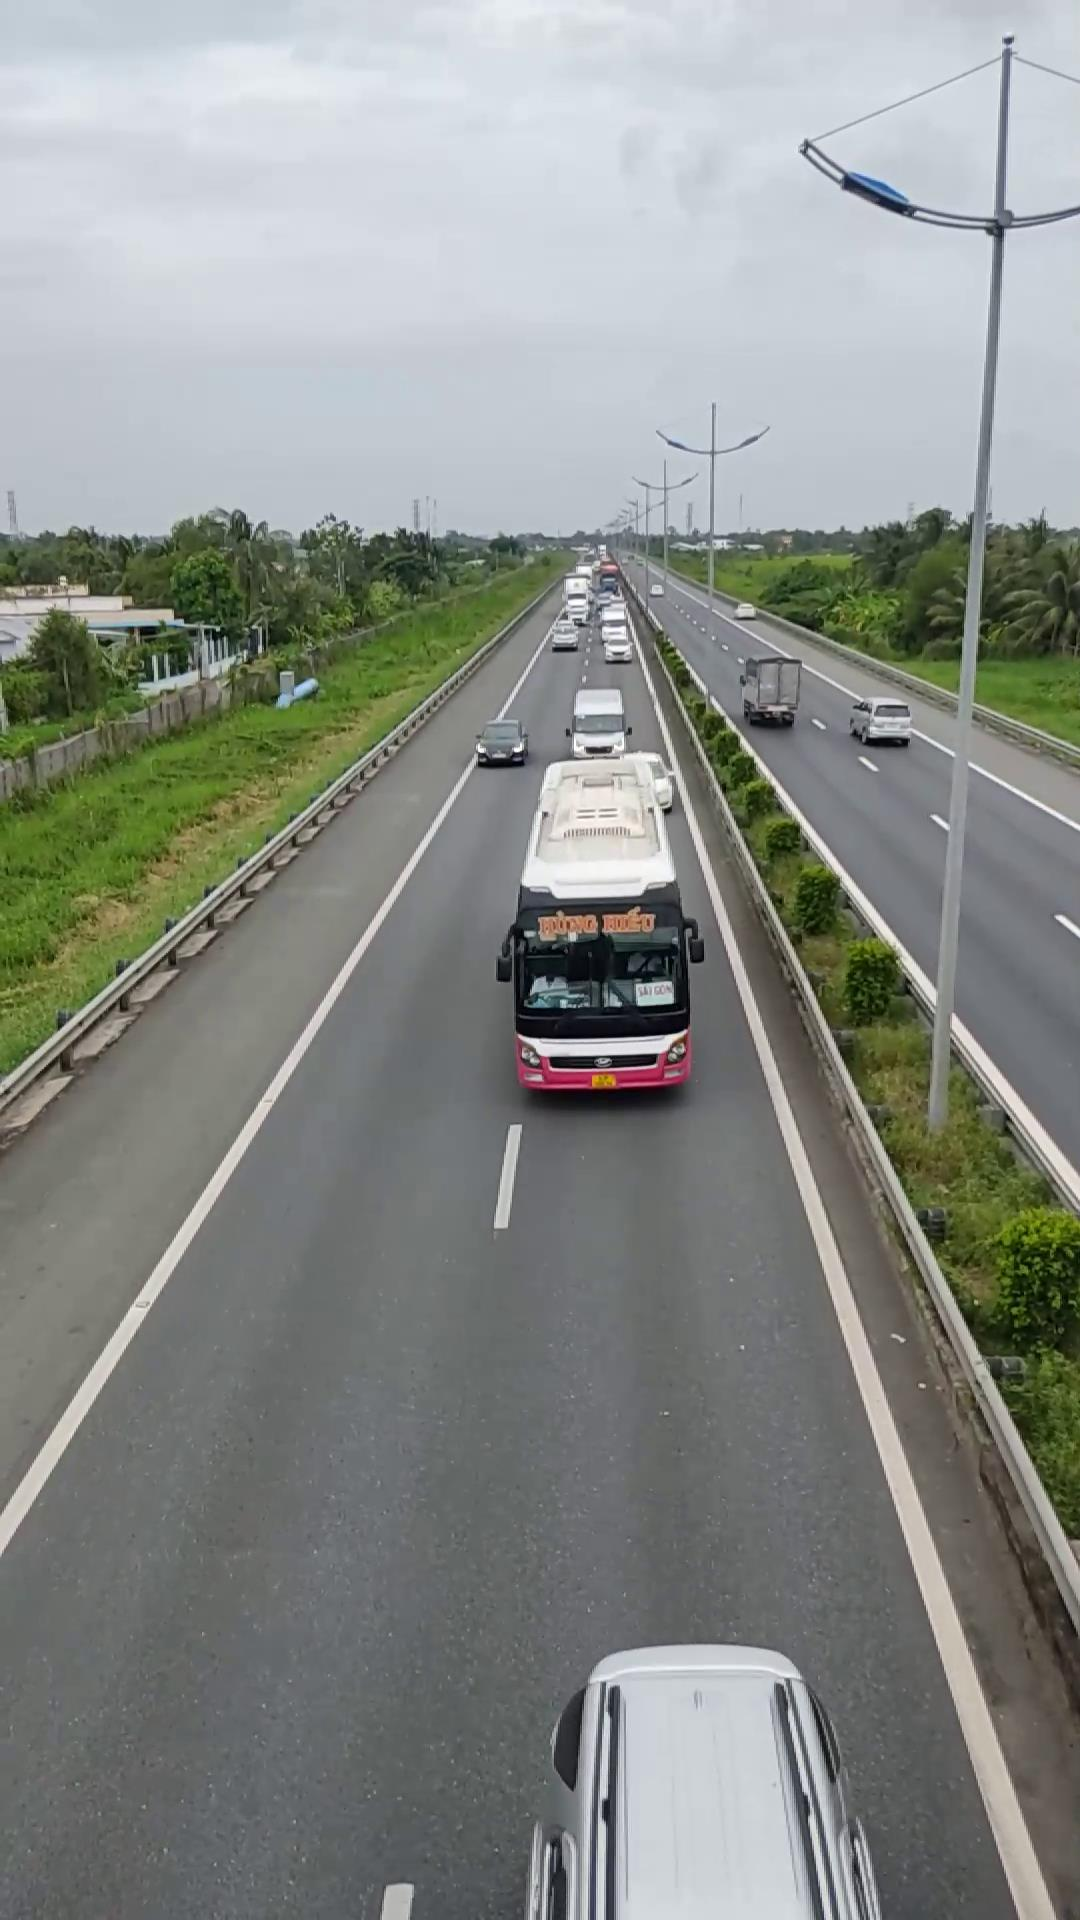bus: (496, 756, 702, 1098)
car: (520, 1642, 880, 1919)
truck: (738, 653, 800, 725)
